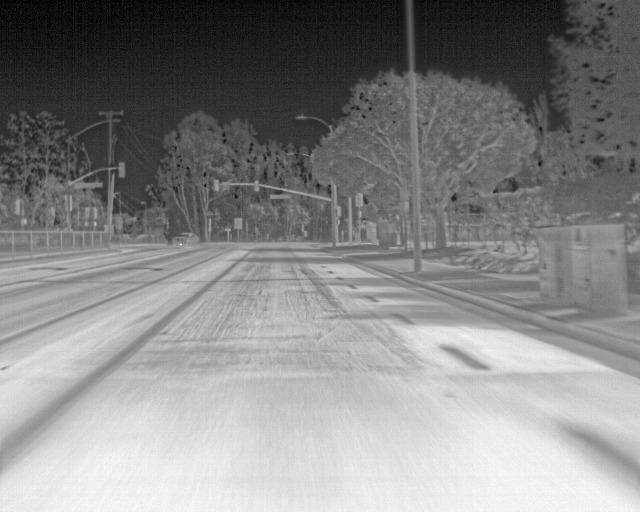car: (173, 232, 200, 247)
light: (119, 162, 125, 177), (356, 194, 362, 207), (213, 179, 219, 191), (254, 180, 259, 191), (336, 206, 341, 217)
sign: (75, 183, 103, 188), (16, 200, 24, 214), (65, 195, 72, 211), (270, 194, 292, 199), (115, 217, 123, 229), (234, 218, 242, 229), (222, 182, 229, 190), (225, 229, 231, 231)
